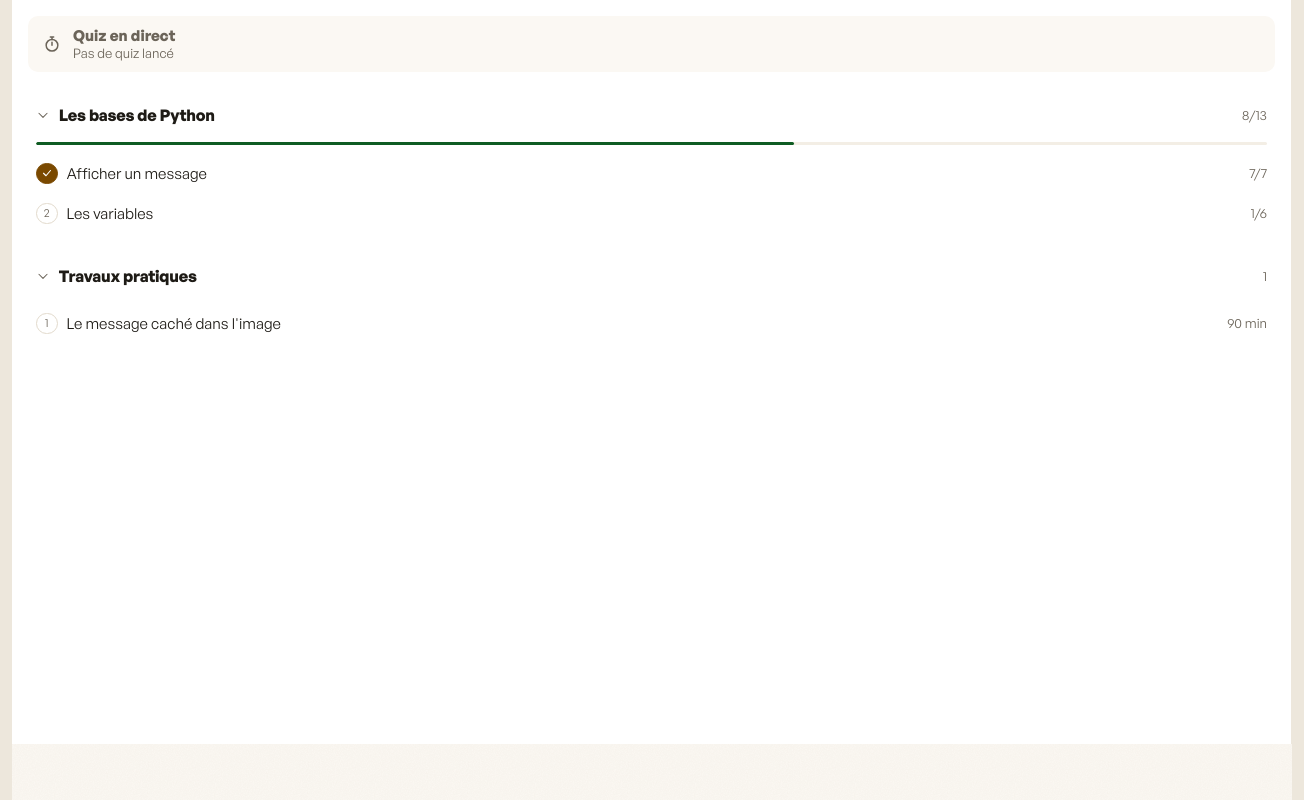
Test: Menu — les travaux pratiques › se replie comme un chapitre
The width and height of the screenshot is (1304, 800).
Click the button "Travaux pratiques 1" at (128, 276), box [12,249,1291,303]
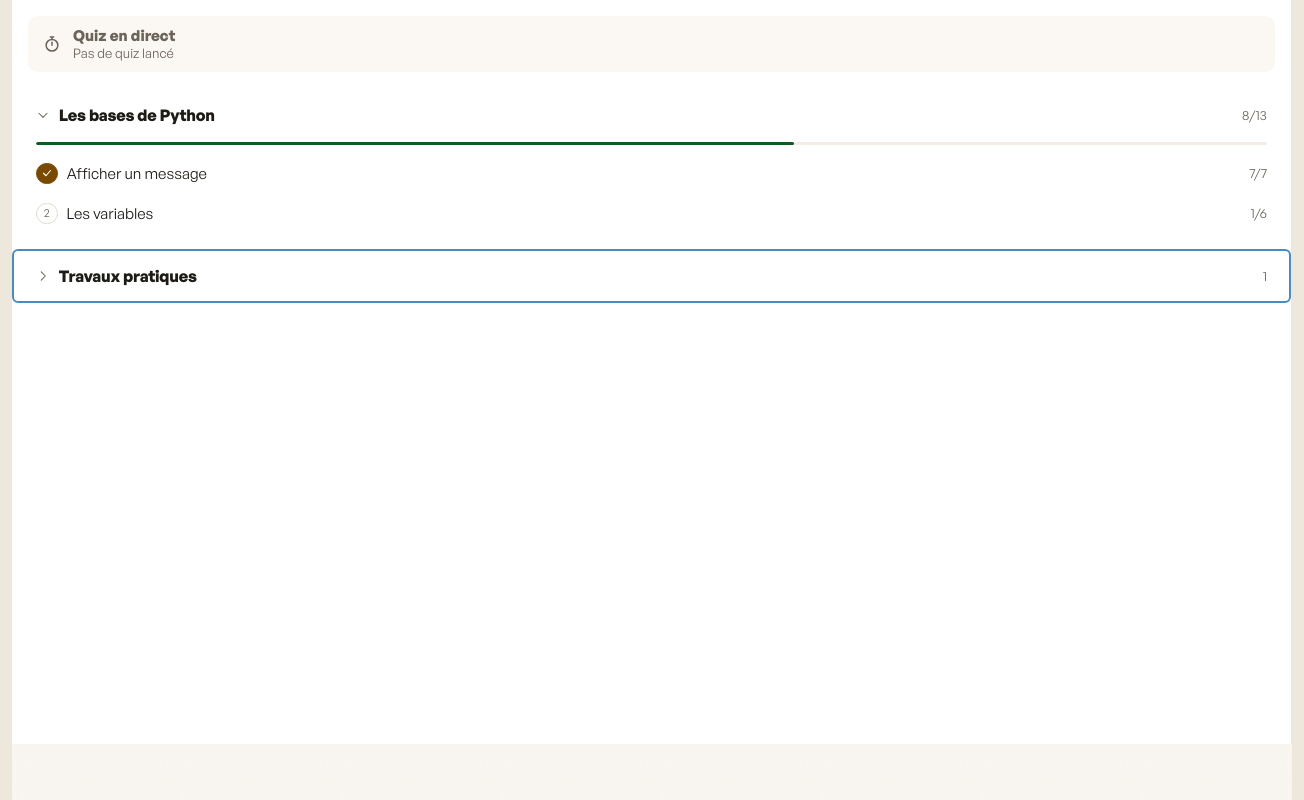
Expected: the button "Travaux pratiques 1" is collapsed, [12,249,1291,303]
